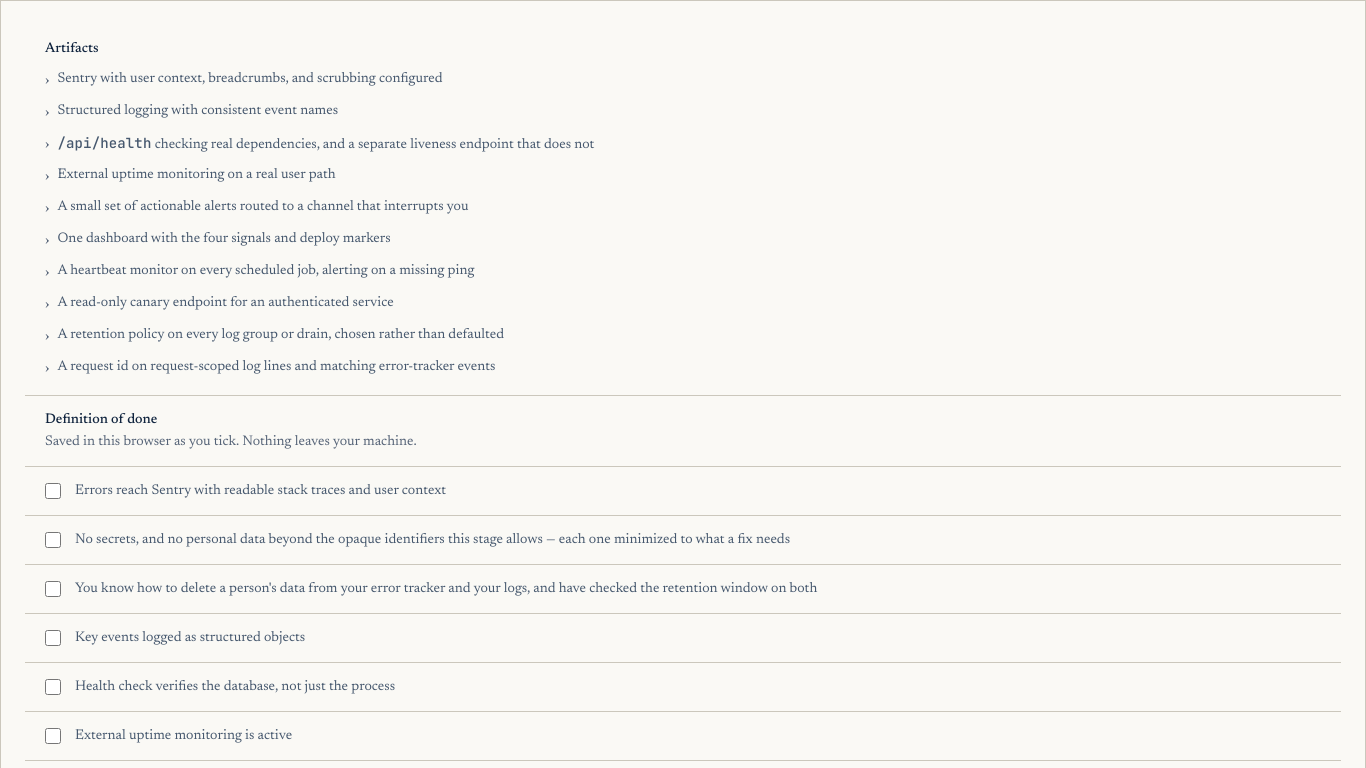
Test: ObservabilityChecklist › ticking a checkbox persists and shows the count
Click the 1st checkbox at (53, 491), box [45,483,61,499]
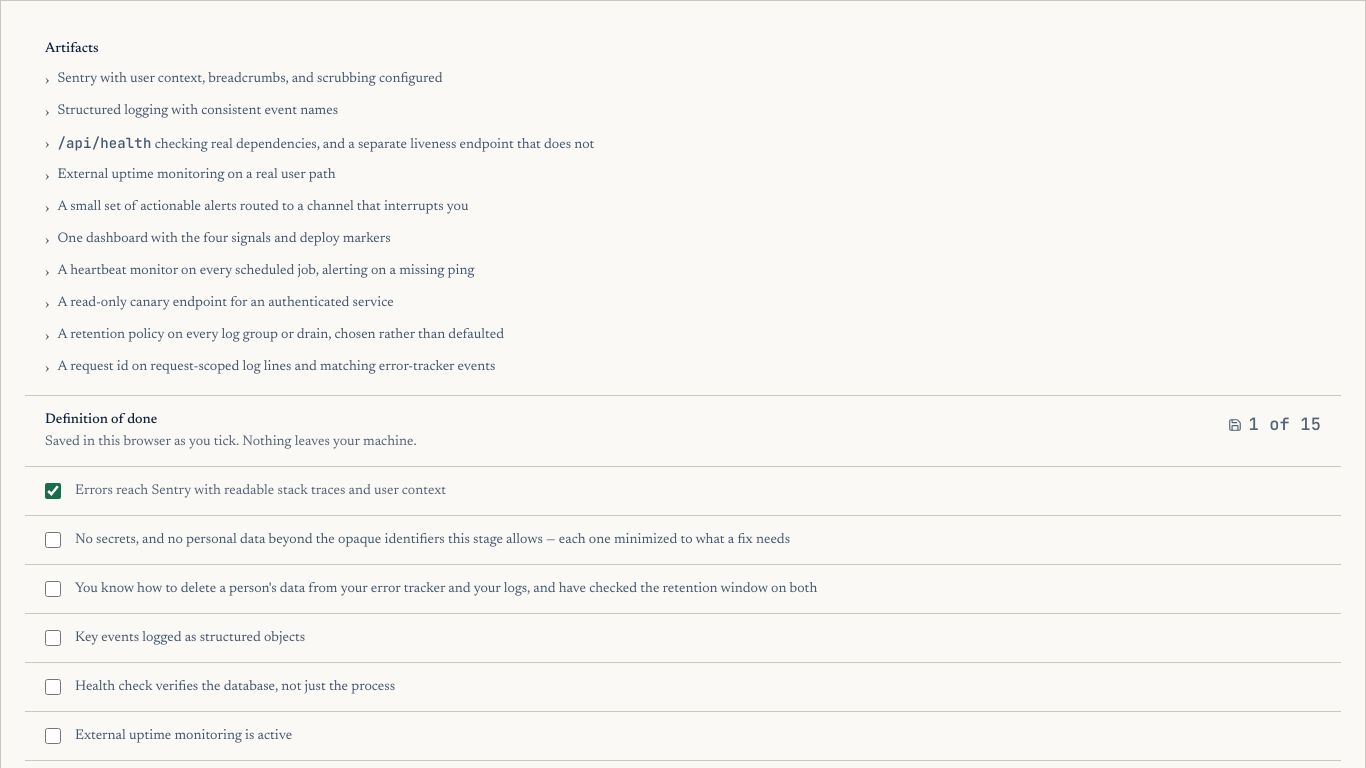
Result: the 1st checkbox is checked at [45,483,61,499]
Result: the text "1 of 15" is shown at [1228,410,1321,440]
